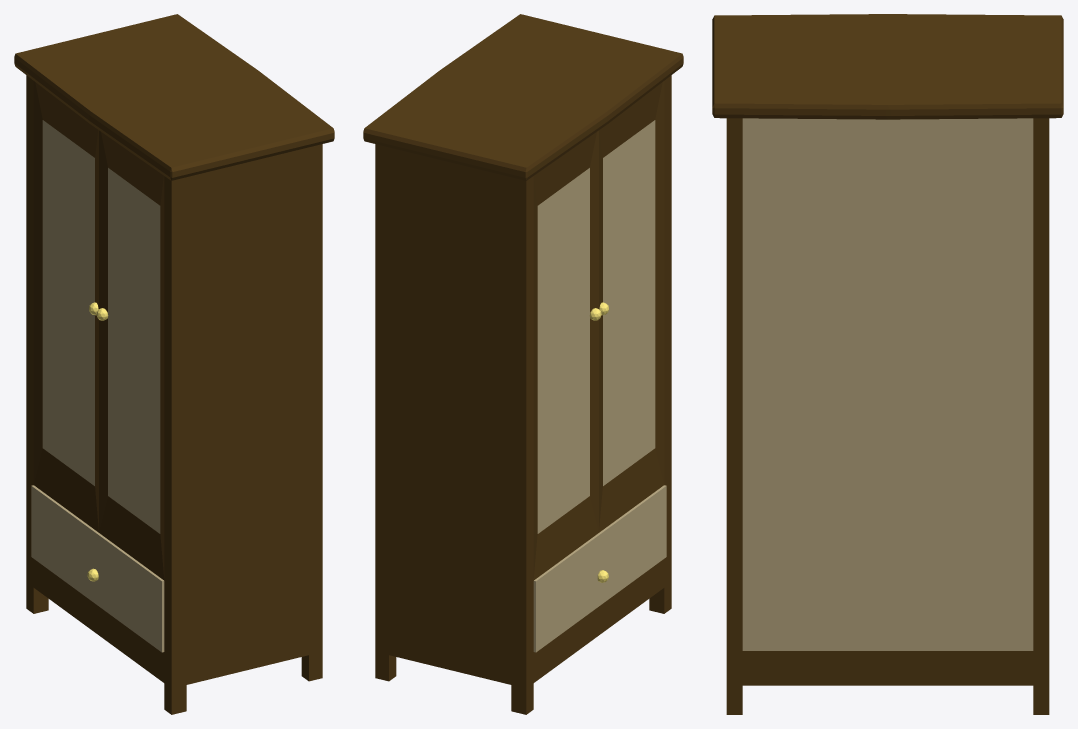
Rendered from Wardrobe.fbx.
3 views of the same model, side by side, from view 1: azimuth 30°, elevation 25°; view 2: azimuth 150°, elevation 25°; view 3: azimuth 270°, elevation 25° (orthographic). The views are drawn at different scales.
Visible parts, largest first — view 1: Cube; view 2: Cube; view 3: Cube.
Part boxes in pixels (x1=…): Cube: x1=14, y1=14, x2=334, y2=714; Cube: x1=363, y1=14, x2=683, y2=714; Cube: x1=712, y1=14, x2=1063, y2=714.
Bounding box in the file's own units: 67.66 × 210 × 109.
